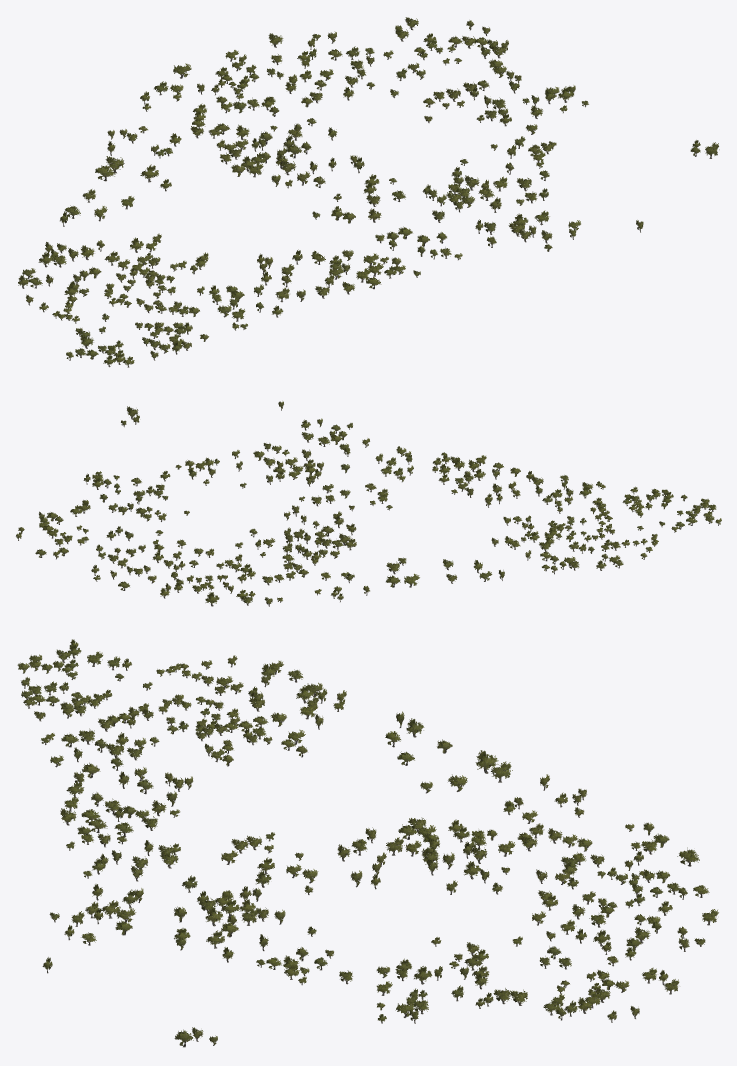
The picture shows the model from 3 angles, top to bottom: view 1: azimuth 30°, elevation 25°; view 2: azimuth 150°, elevation 25°; view 3: azimuth 270°, elevation 25°; orthographic projection. The views are drawn at different scales.
Visible parts, largest first — view 1: island_tree_01 0 2 crown, island_tree_01 2 0 crown, island_tree_01 1 2 crown, island_tree_01 0 1 crown, island_tree_01 2 1 crown, island_tree_01 2 2 crown, island_tree_01 1 1 crown, island_tree_01 1 0 crown, island_tree_01 3 0 crown, island_tree_01 3 1 crown; view 2: island_tree_01 2 0 crown, island_tree_01 0 2 crown, island_tree_01 1 2 crown, island_tree_01 0 1 crown, island_tree_01 2 1 crown, island_tree_01 2 2 crown, island_tree_01 1 1 crown, island_tree_01 1 0 crown, island_tree_01 3 0 crown, island_tree_01 3 1 crown; view 3: island_tree_01 0 2 crown, island_tree_01 2 0 crown, island_tree_01 1 2 crown, island_tree_01 2 1 crown, island_tree_01 0 1 crown, island_tree_01 2 2 crown, island_tree_01 1 0 crown, island_tree_01 1 1 crown, island_tree_01 3 0 crown, island_tree_01 3 1 crown.
Boxes of the visible parts, box(x1,y1,x2,y2) form: island_tree_01 0 2 crown: box(39, 270, 247, 365); island_tree_01 2 0 crown: box(173, 31, 444, 143); island_tree_01 1 2 crown: box(190, 231, 420, 315); island_tree_01 0 1 crown: box(18, 189, 186, 302); island_tree_01 2 1 crown: box(283, 103, 549, 219); island_tree_01 2 2 crown: box(397, 177, 580, 259); island_tree_01 1 1 crown: box(121, 138, 355, 261); island_tree_01 1 0 crown: box(95, 81, 249, 179); island_tree_01 3 0 crown: box(395, 17, 521, 91); island_tree_01 3 1 crown: box(446, 81, 588, 161); island_tree_01 2 0 crown: box(91, 513, 292, 603); island_tree_01 0 2 crown: box(548, 481, 721, 551); island_tree_01 1 2 crown: box(393, 452, 568, 523); island_tree_01 0 1 crown: box(446, 522, 647, 582); island_tree_01 2 1 crown: box(154, 450, 376, 546); island_tree_01 2 2 crown: box(253, 418, 412, 474); island_tree_01 1 1 crown: box(295, 488, 510, 571); island_tree_01 1 0 crown: box(236, 548, 419, 604); island_tree_01 3 0 crown: box(16, 500, 127, 557); island_tree_01 3 1 crown: box(83, 457, 213, 516); island_tree_01 0 2 crown: box(17, 639, 227, 750); island_tree_01 2 0 crown: box(466, 846, 718, 964); island_tree_01 1 2 crown: box(50, 743, 224, 856); island_tree_01 2 1 crown: box(215, 848, 480, 966); island_tree_01 0 1 crown: box(216, 655, 452, 752); island_tree_01 2 2 crown: box(49, 850, 224, 949); island_tree_01 1 0 crown: box(470, 750, 669, 854); island_tree_01 1 1 crown: box(222, 745, 474, 859); island_tree_01 3 0 crown: box(472, 956, 679, 1019); island_tree_01 3 1 crown: box(266, 953, 482, 1021).
Size of the model in its own units: 608 by 14.1 by 451.
2 materials, 2 textured.
